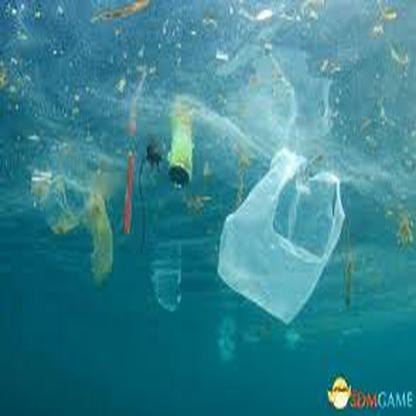can: (168, 131, 195, 183)
plastic bag: (218, 154, 345, 325)
